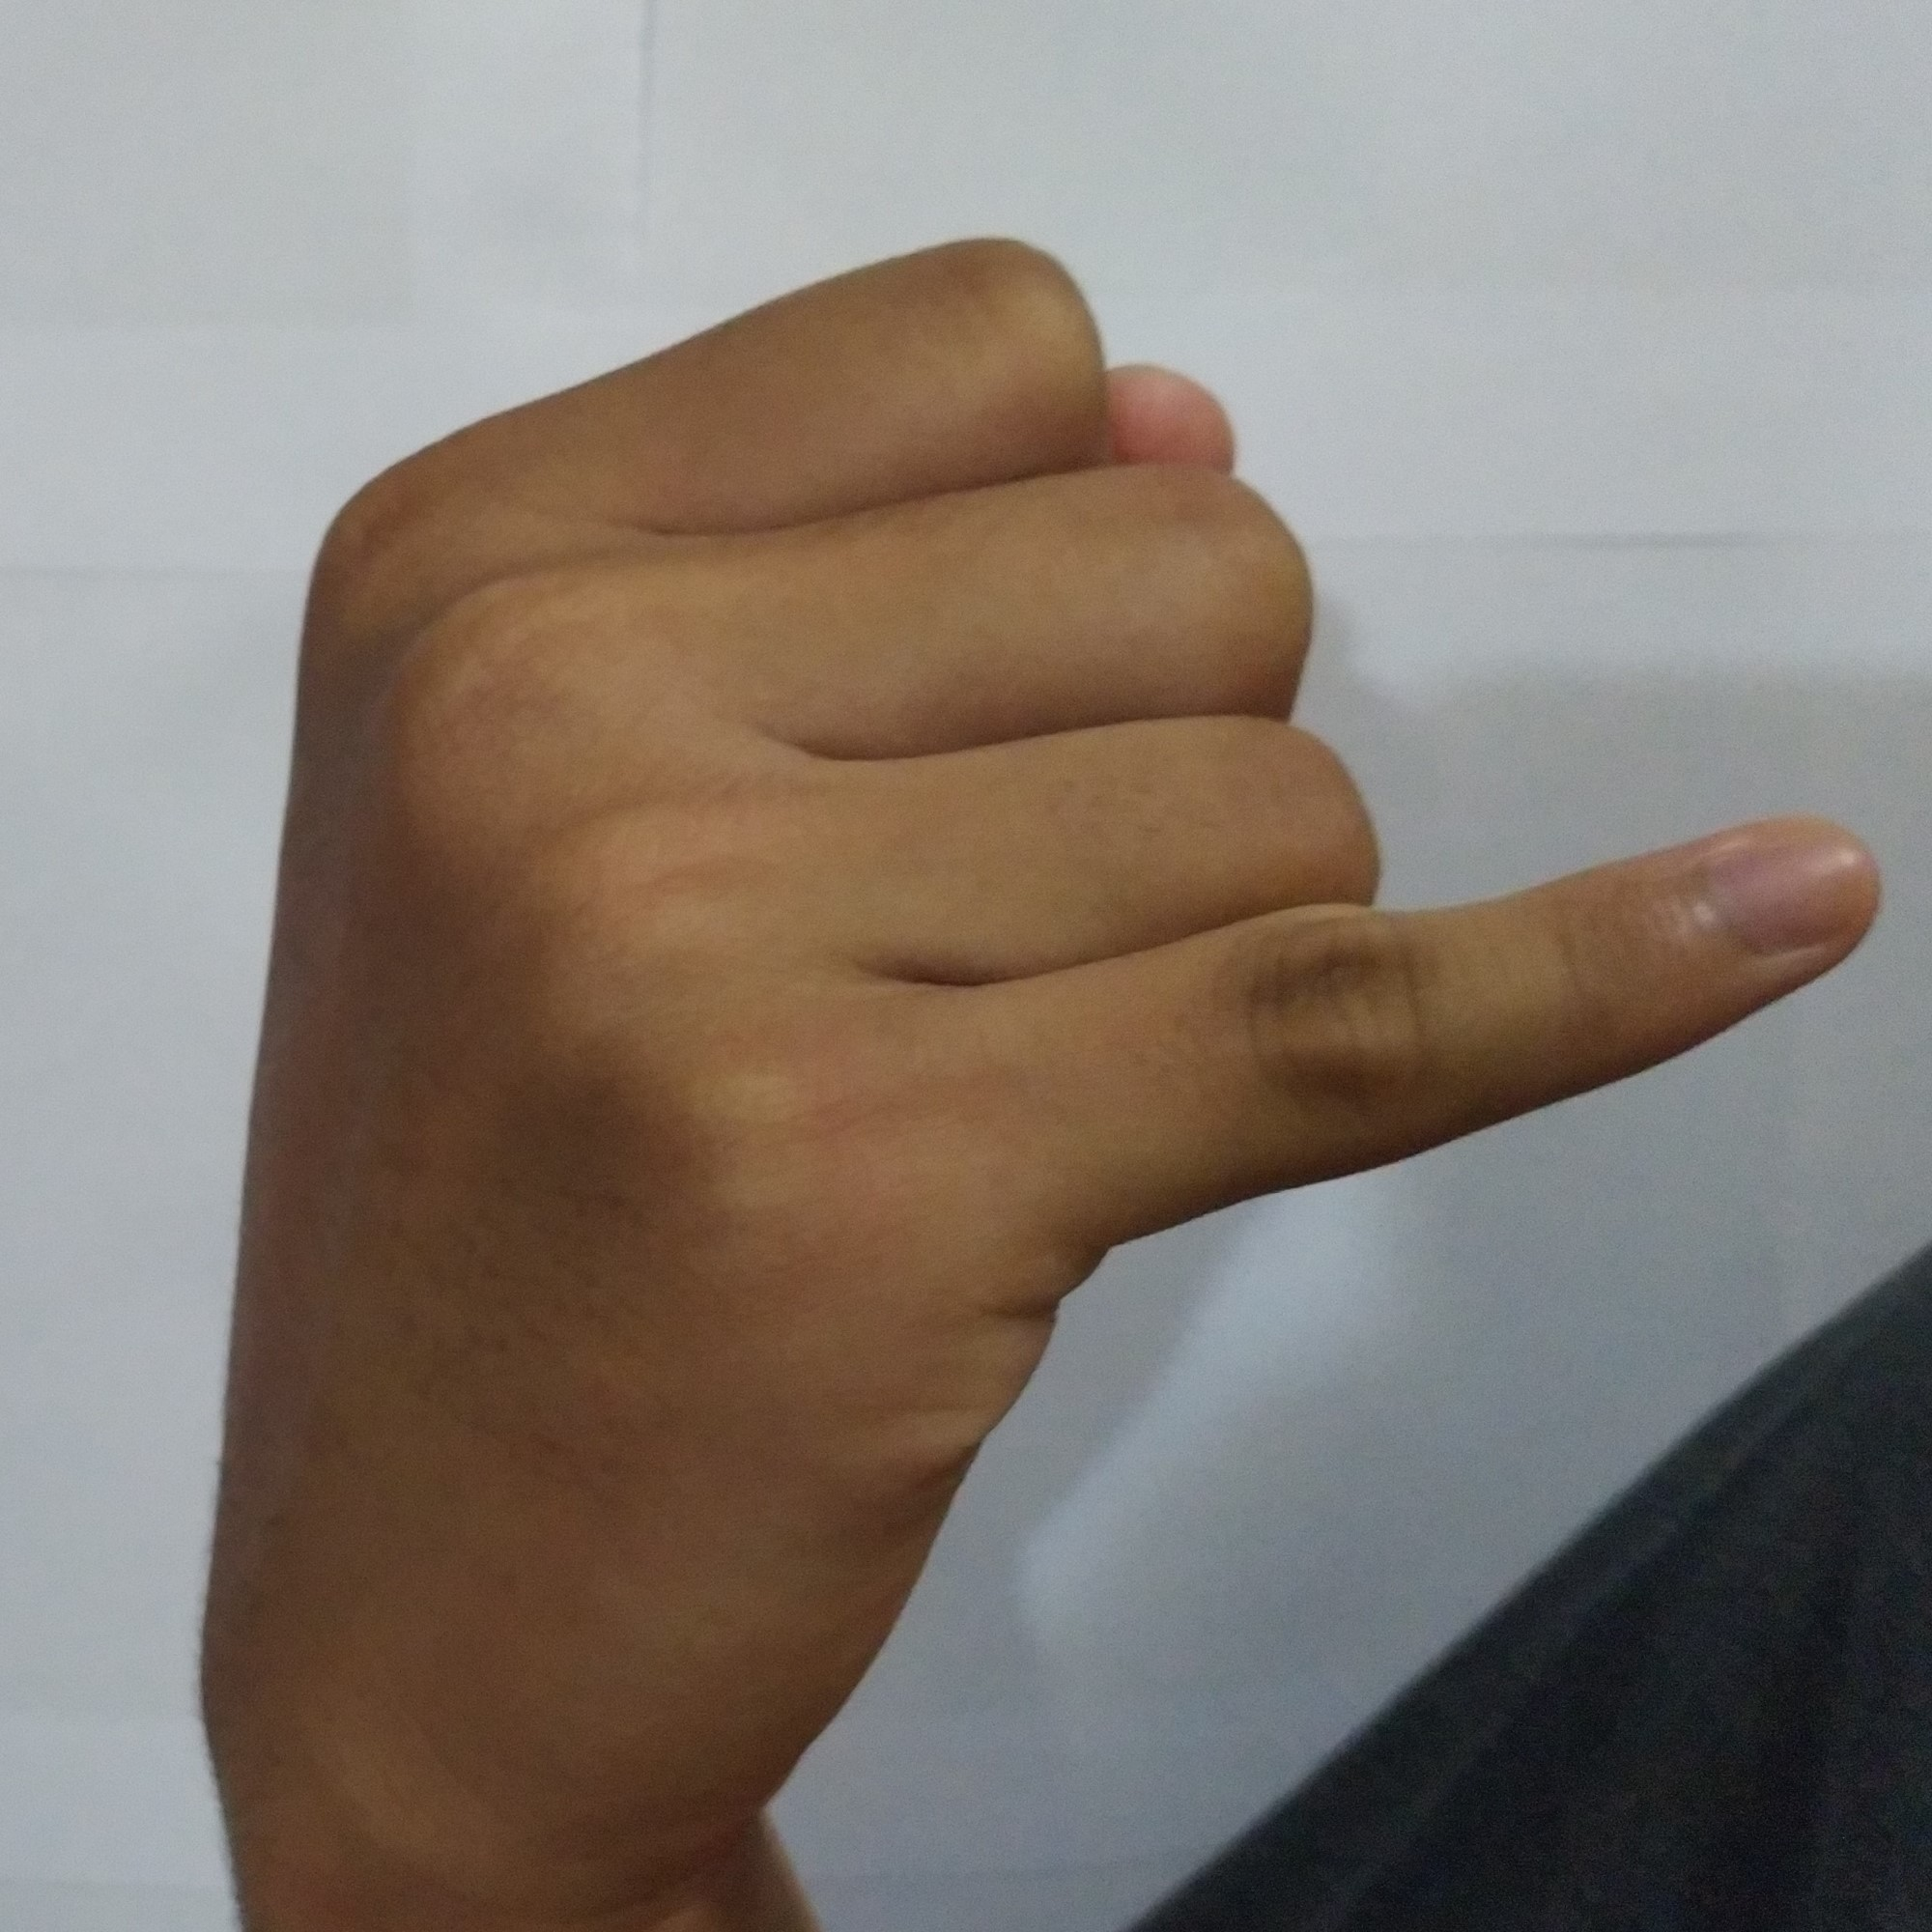J: (170, 214, 1897, 1780)
